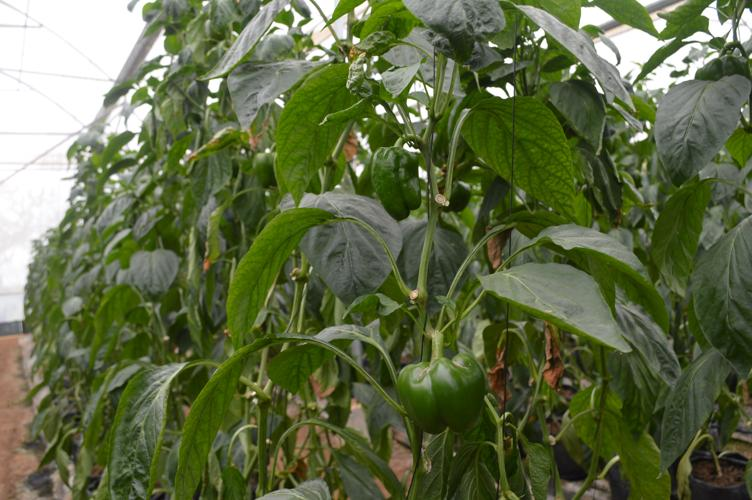BellPepper: (394, 344, 494, 446), (359, 140, 432, 230), (249, 142, 284, 194)
